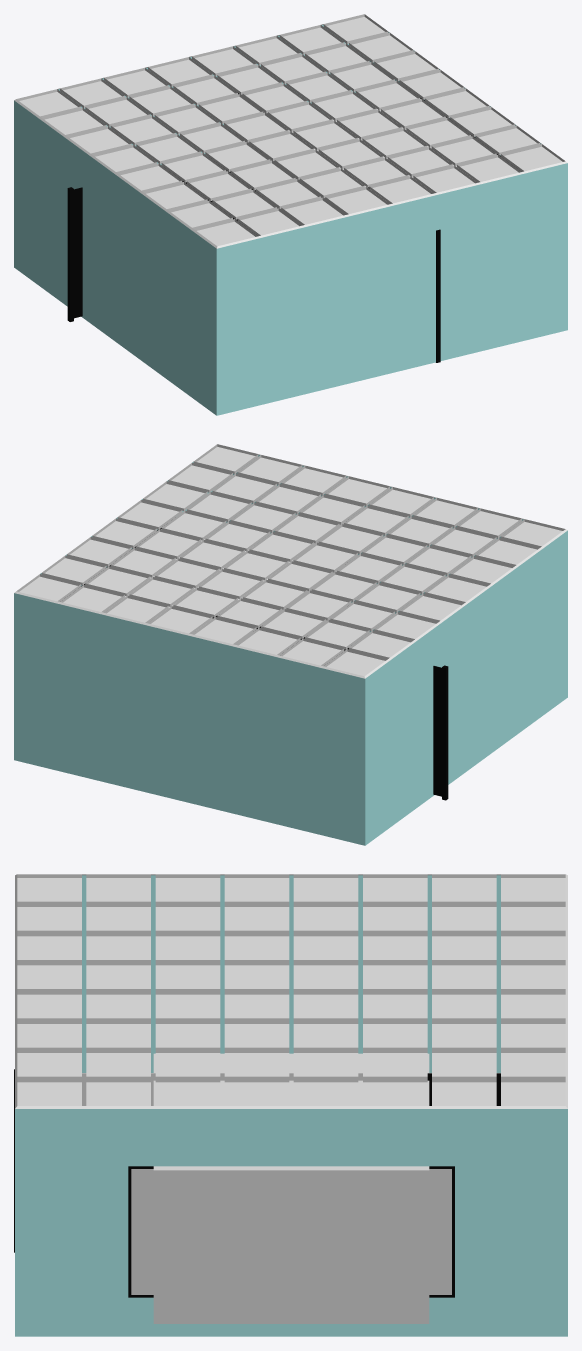
File: CS 4480 Environment.fbx
3 views of the same model, one above another, from view 1: azimuth 30°, elevation 25°; view 2: azimuth 150°, elevation 25°; view 3: azimuth 270°, elevation 25° (orthographic). The views are drawn at different scales.
Parts seen in each view (by area): view 1: Cube.003, Cube.004, Cube.005; view 2: Cube.003, Cube.004; view 3: Cube.003, Room, Cube.005.
Part boxes in pixels (bbox=[...]): Cube.003: bbox=[14, 14, 567, 415]; Cube.004: bbox=[67, 170, 255, 321]; Cube.005: bbox=[238, 93, 440, 362]; Cube.003: bbox=[14, 444, 567, 845]; Cube.004: bbox=[213, 616, 448, 800]; Cube.003: bbox=[15, 874, 567, 1336]; Room: bbox=[153, 1053, 429, 1323]; Cube.005: bbox=[14, 1069, 500, 1252].
Size of the model in its own units: 17938 by 7896 by 17065.
